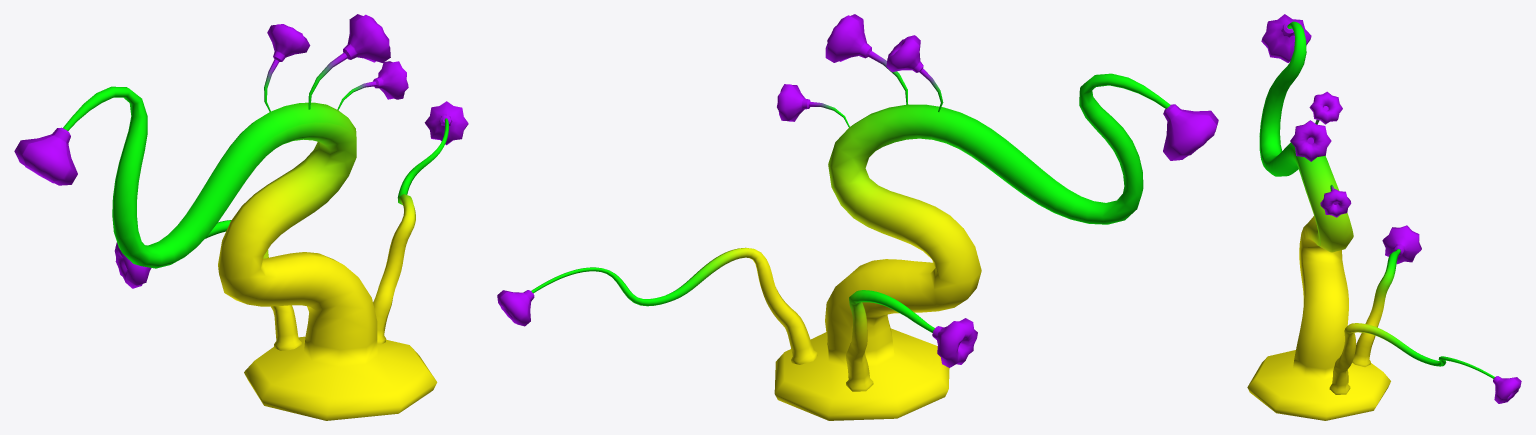
The model's file is Plant_3.fbx.
3 views of the same model, side by side, from view 1: azimuth 30°, elevation 25°; view 2: azimuth 150°, elevation 25°; view 3: azimuth 270°, elevation 25° (orthographic). The views are drawn at different scales.
Visible parts, largest first — view 1: AlienTree; view 2: AlienTree; view 3: AlienTree.
Boxes of the visible parts, x1=… form: AlienTree: x1=14, y1=14, x2=468, y2=420; AlienTree: x1=497, y1=14, x2=1218, y2=420; AlienTree: x1=1247, y1=14, x2=1521, y2=420.
Size of the model in its own units: 34.03 by 20.57 by 18.28.
Materials: 1 (1 with a texture image).
